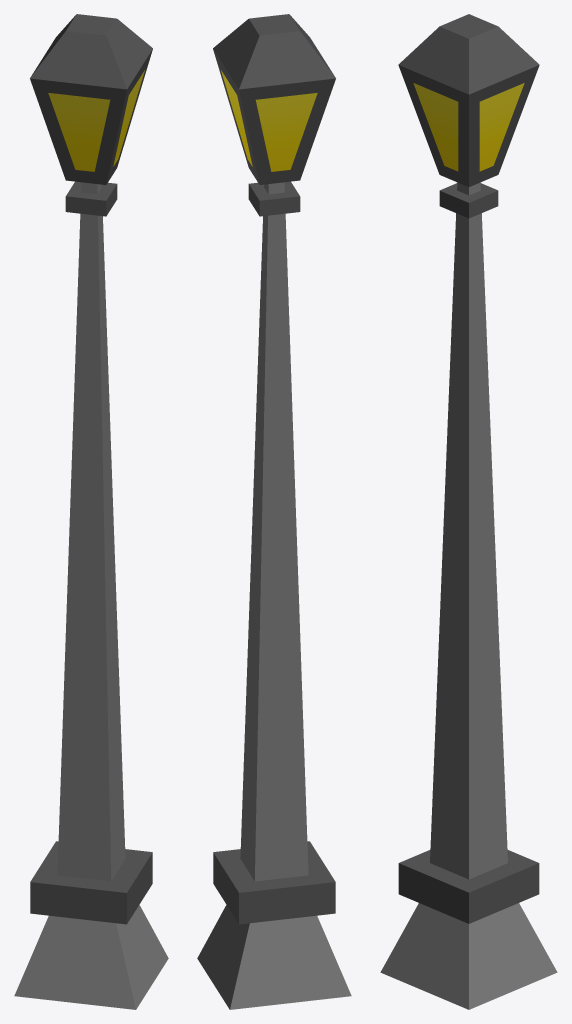
File: Flashlight3.fbx
3 views of the same model, side by side, from view 1: azimuth 30°, elevation 25°; view 2: azimuth 150°, elevation 25°; view 3: azimuth 270°, elevation 25° (orthographic).
Parts seen in each view (by area): view 1: Streetlight_1A; view 2: Streetlight_1A; view 3: Streetlight_1A.
Part boxes in pixels (bbox=[...]): Streetlight_1A: bbox=[14, 14, 168, 1009]; Streetlight_1A: bbox=[197, 14, 351, 1009]; Streetlight_1A: bbox=[380, 14, 557, 1009].
Size of the model in its own units: 1662 by 9790 by 1662.
